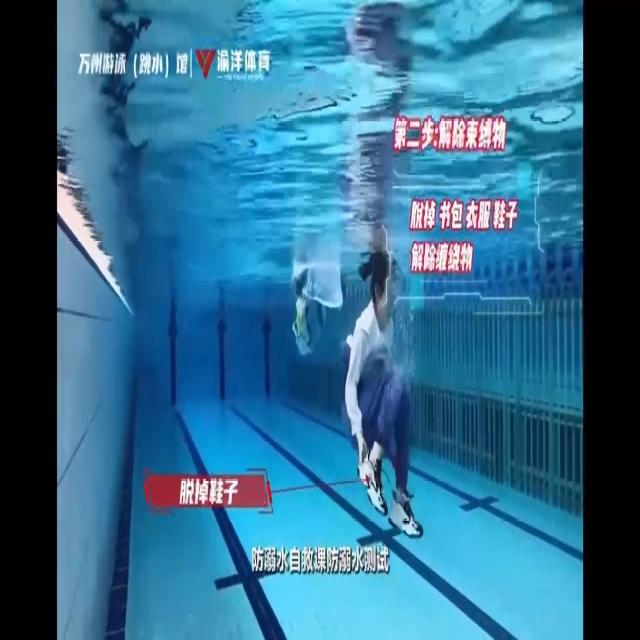Drowning: (346, 255, 422, 538)
